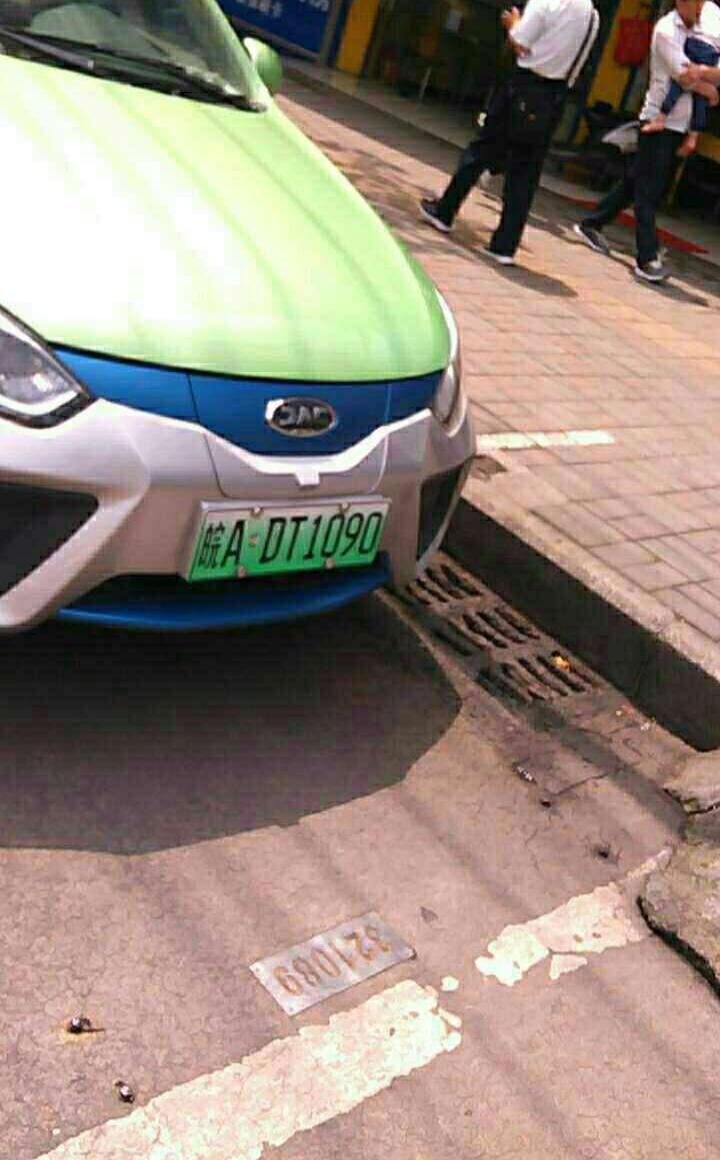car_id: (183, 500, 388, 576)
